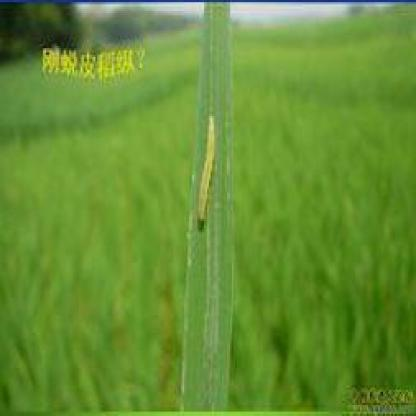leaf-folder: (190, 108, 230, 238)
